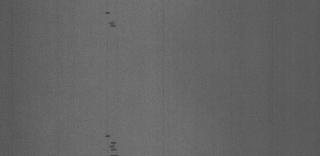oil spot: (101, 132, 122, 156), (103, 7, 121, 32)
